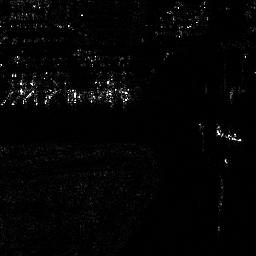ship: (66, 87, 129, 105)
